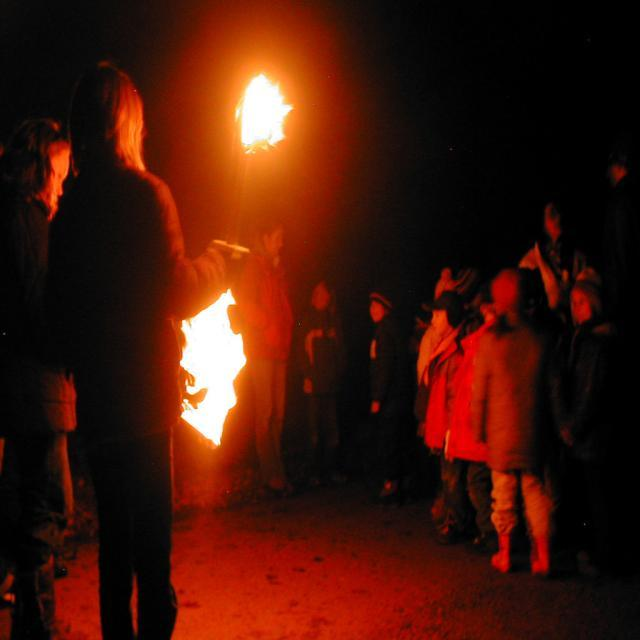Fire: (190, 320, 231, 380), (245, 86, 283, 140)
